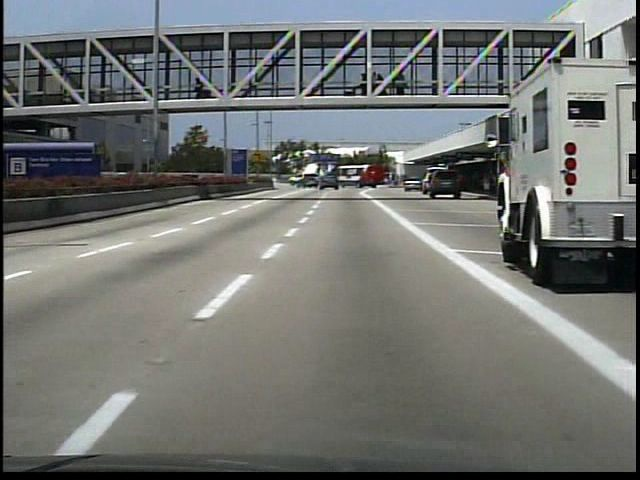person: (481, 173, 492, 199)
